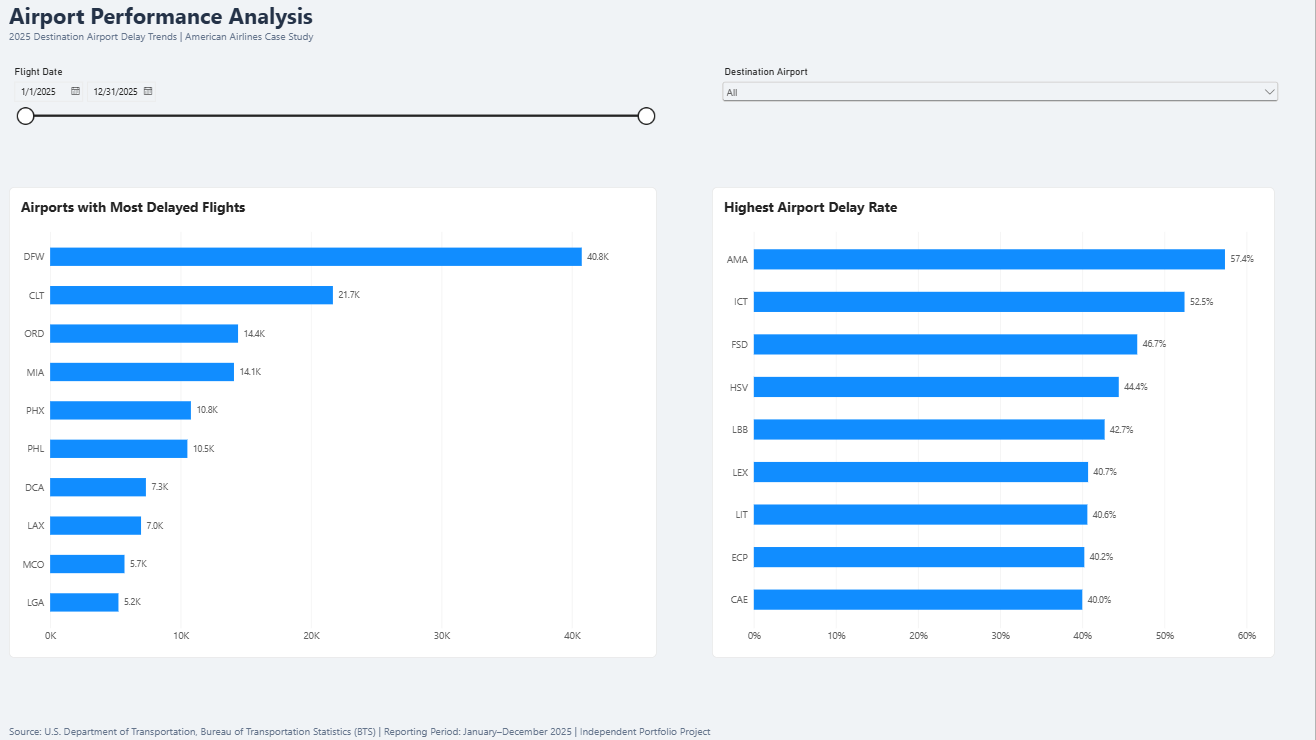

This screenshot's page, from the dashboard's own definition file:
{"tool":"powerbi","page":{"name":"Airport Performance","canvas":[1920,1080],"ordinal":1},"visuals":[{"type":"clusteredBarChart","title":"Airports with Most Delayed Flights","fields":{"Category":["AA_Flights.DEST"],"Y":["AA_Flights.Delayed Flights"]},"box":[14.6,272.8,945.4,687.2],"z":0},{"type":"clusteredBarChart","title":"Highest Airport Delay Rate","fields":{"Category":["AA_Flights.DEST"],"Y":["AA_Flights.Airport Delay Rate %"]},"box":[1040.2,272.8,821.4,687.2],"z":1000},{"type":"slicer","fields":{"Values":["AA_Flights.FL_DATE"]},"box":[14.6,96.3,945.4,141.5],"z":2000},{"type":"slicer","fields":{"Values":["AA_Flights.DEST"]},"box":[1050.5,96.3,821.4,80.2],"z":3000},{"type":"textbox","box":[14.6,0,493.1,77.3],"z":4000},{"type":"textbox","box":[14.6,961.5,1081.1,118.2],"z":5000}]}

Visuals, with their boxes in screenshot pixels (x1, y1, x2, y2), scaled from the page's 1920x1080 canvas onto the 1316x740 screenshot:
"Airports with Most Delayed Flights" clusteredBarChart: (10,187,658,658)
"Highest Airport Delay Rate" clusteredBarChart: (713,187,1276,658)
slicer - AA_Flights.FL_DATE: (10,66,658,163)
slicer - AA_Flights.DEST: (720,66,1283,121)
textbox: (10,0,348,53)
textbox: (10,659,751,739)
